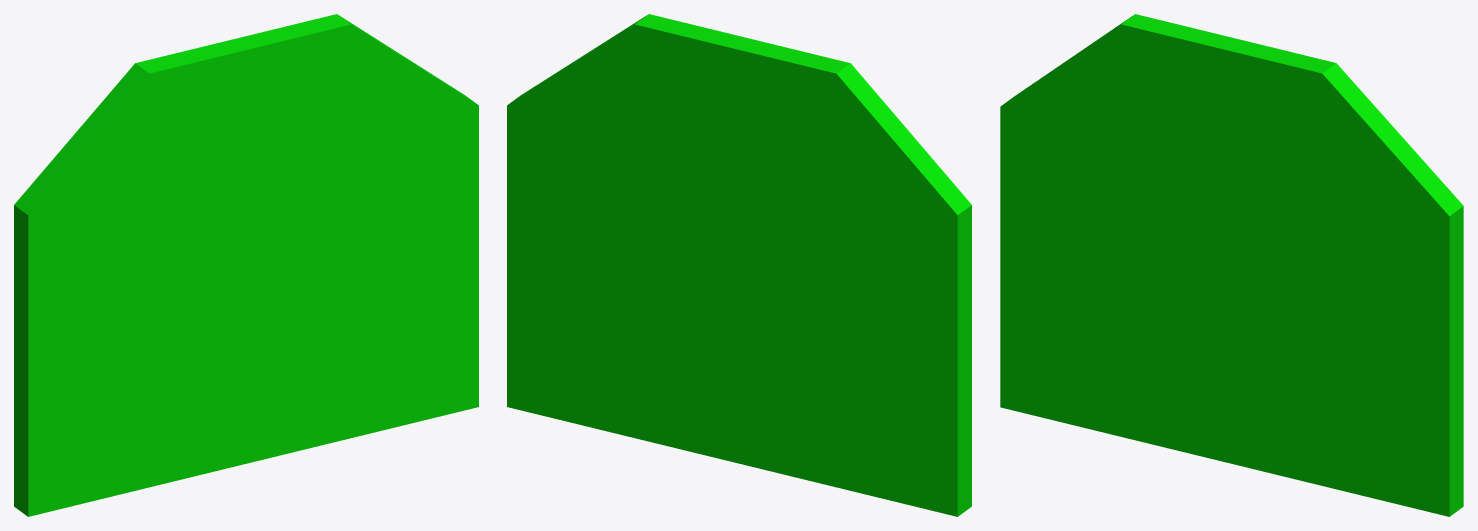
File: MOD_TussenMuur_UV_v1.fbx
3 renders of one model, left to right at view 1: azimuth 30°, elevation 25°; view 2: azimuth 150°, elevation 25°; view 3: azimuth 330°, elevation 25°, orthographic.
Parts seen in each view (by area): view 1: polySurface6; view 2: polySurface6; view 3: polySurface6.
Part boxes in pixels (x1,y1,x2,y2): polySurface6: (14,14,478,516); polySurface6: (507,14,971,516); polySurface6: (1000,14,1463,516).
Bounding box in the file's own units: 532 × 466 × 29.18.
